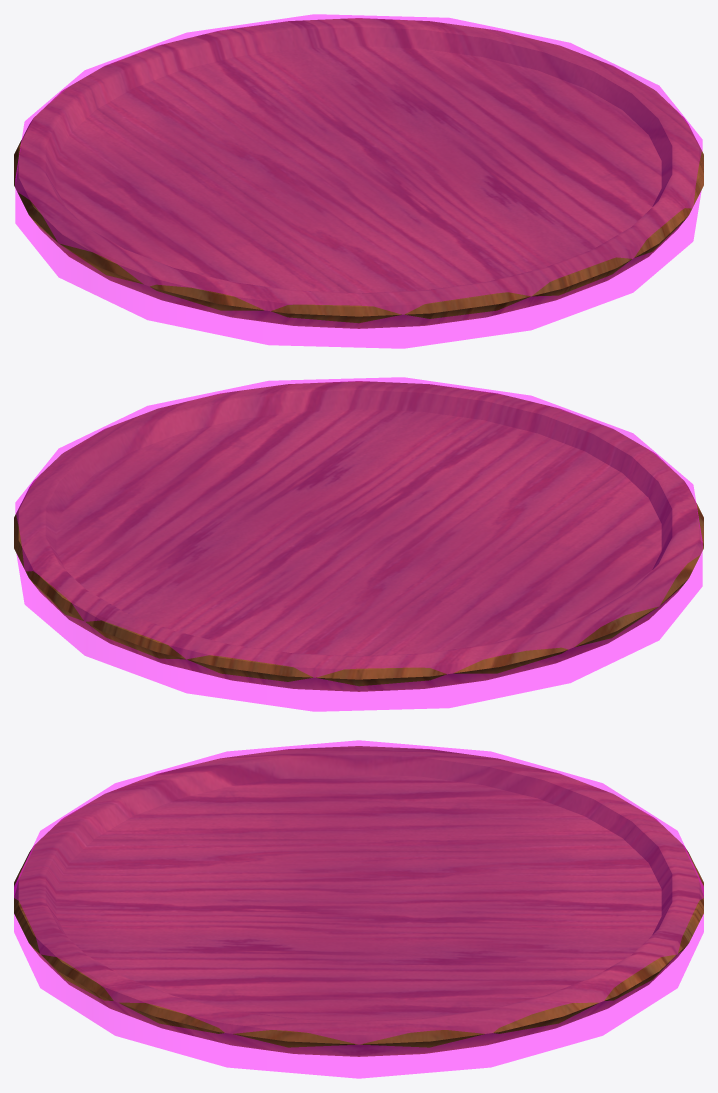
Rendered from snackplate_A.fbx.
The picture shows the model from 3 angles, top to bottom: view 1: azimuth 30°, elevation 25°; view 2: azimuth 150°, elevation 25°; view 3: azimuth 270°, elevation 25°; orthographic projection.
Visible parts, largest first — view 1: boundingbox, snackplate_A; view 2: boundingbox, snackplate_A; view 3: boundingbox, snackplate_A.
Boxes of the visible parts, x1,y1,x2,y2 form: boundingbox: (15,14,702,348); snackplate_A: (14,18,703,328); boundingbox: (15,377,702,711); snackplate_A: (14,381,703,691); boundingbox: (14,740,703,1078); snackplate_A: (14,746,703,1056).
Bounding box in the file's own units: 20 × 1.44 × 19.89.
2 materials, 1 textured.
